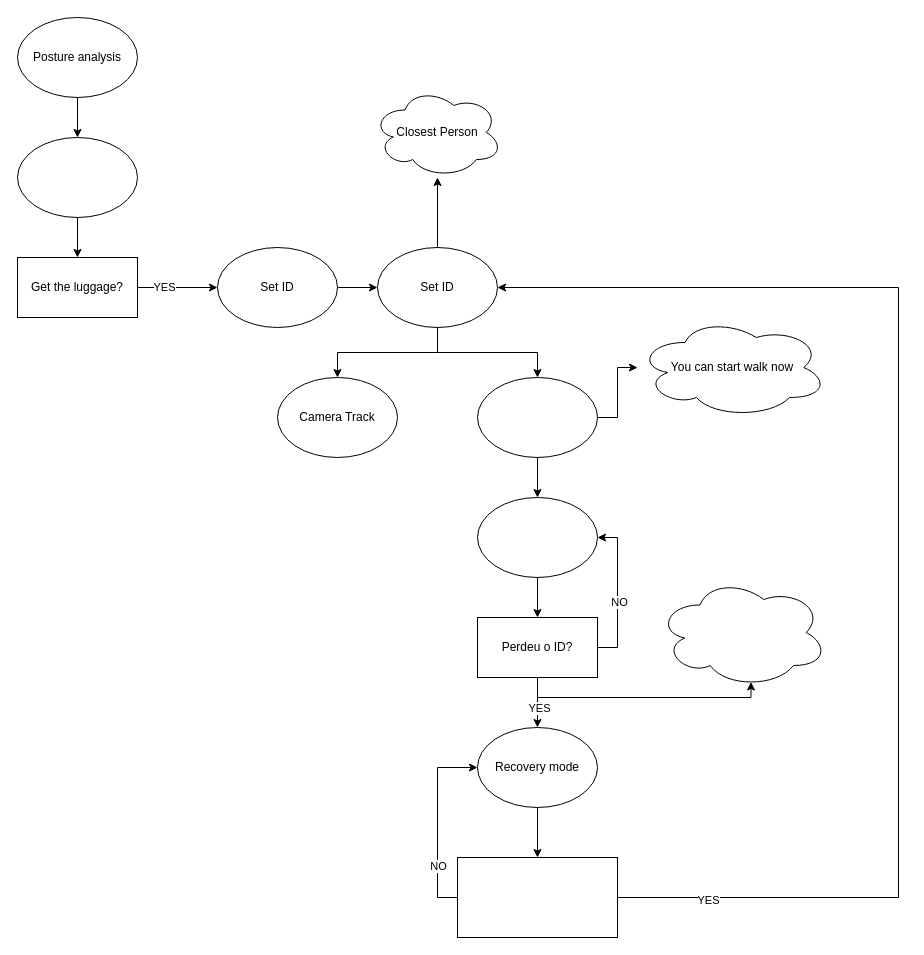
Some shapes in this 924 by 955 pixel diagram are drawn without their labels. The centre of each missing label's shape, as x and y in pixels:
"Achou um ID baseado na pessoa mais próxima do último go to?" goes at (x=537, y=897).
"Follow" goes at (x=537, y=417).
"Go to continuos" goes at (x=537, y=537).
"Pick bag" goes at (x=77, y=177).
"Stop, I'm going to you" goes at (x=742, y=632).
